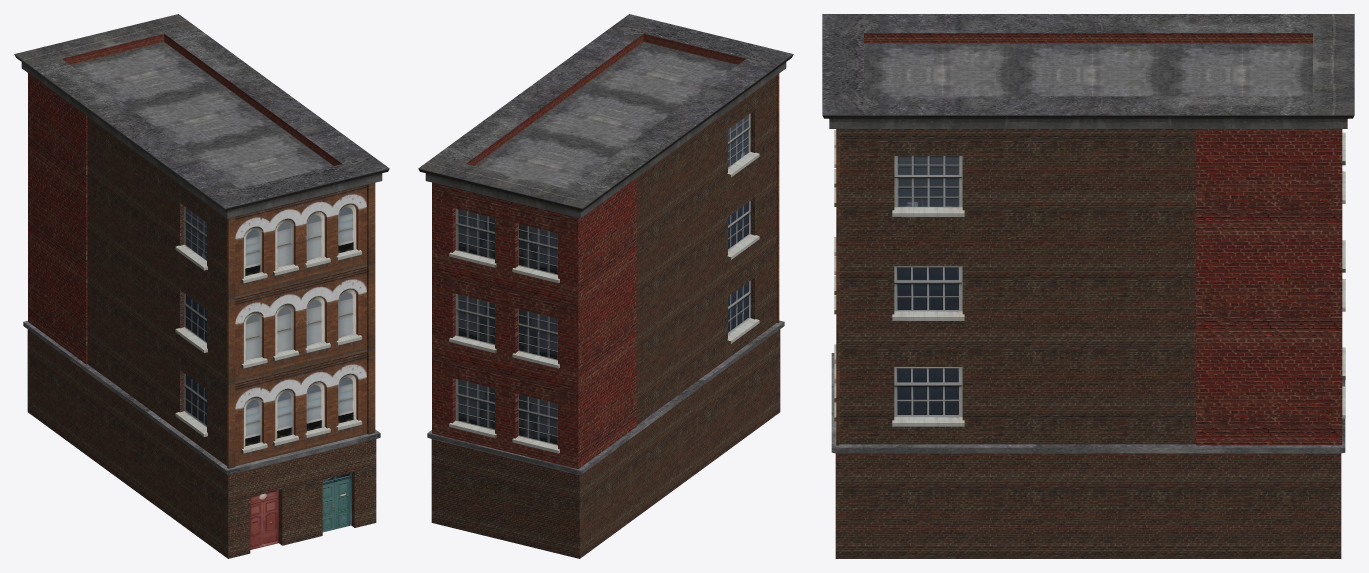
The model's file is Building_A10.obj.
The picture shows the model from 3 angles, left to right: view 1: azimuth 30°, elevation 25°; view 2: azimuth 150°, elevation 25°; view 3: azimuth 270°, elevation 25°; orthographic projection. The views are drawn at different scales.
Visible parts, largest first — view 1: K_Building_A10_00; view 2: K_Building_A10_00; view 3: K_Building_A10_00.
Part boxes in pixels (<box>): K_Building_A10_00: <box>14,14,389,558</box>; K_Building_A10_00: <box>418,14,793,558</box>; K_Building_A10_00: <box>822,14,1354,558</box>.
Bounding box in the file's own units: 6.71 × 13.88 × 14.92.
